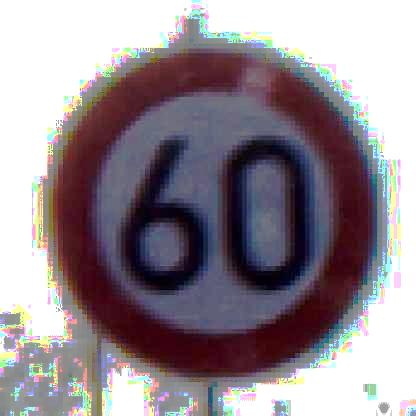Speed Limit -60-: (41, 38, 385, 389)
